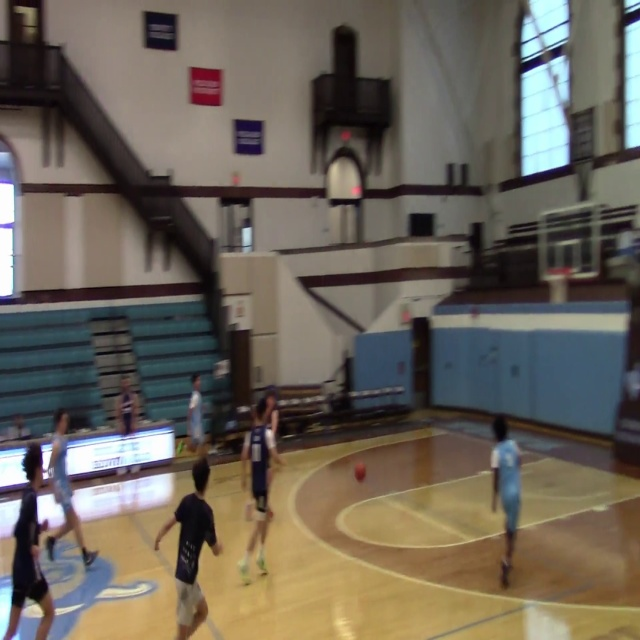Basketball: (354, 462, 366, 481)
